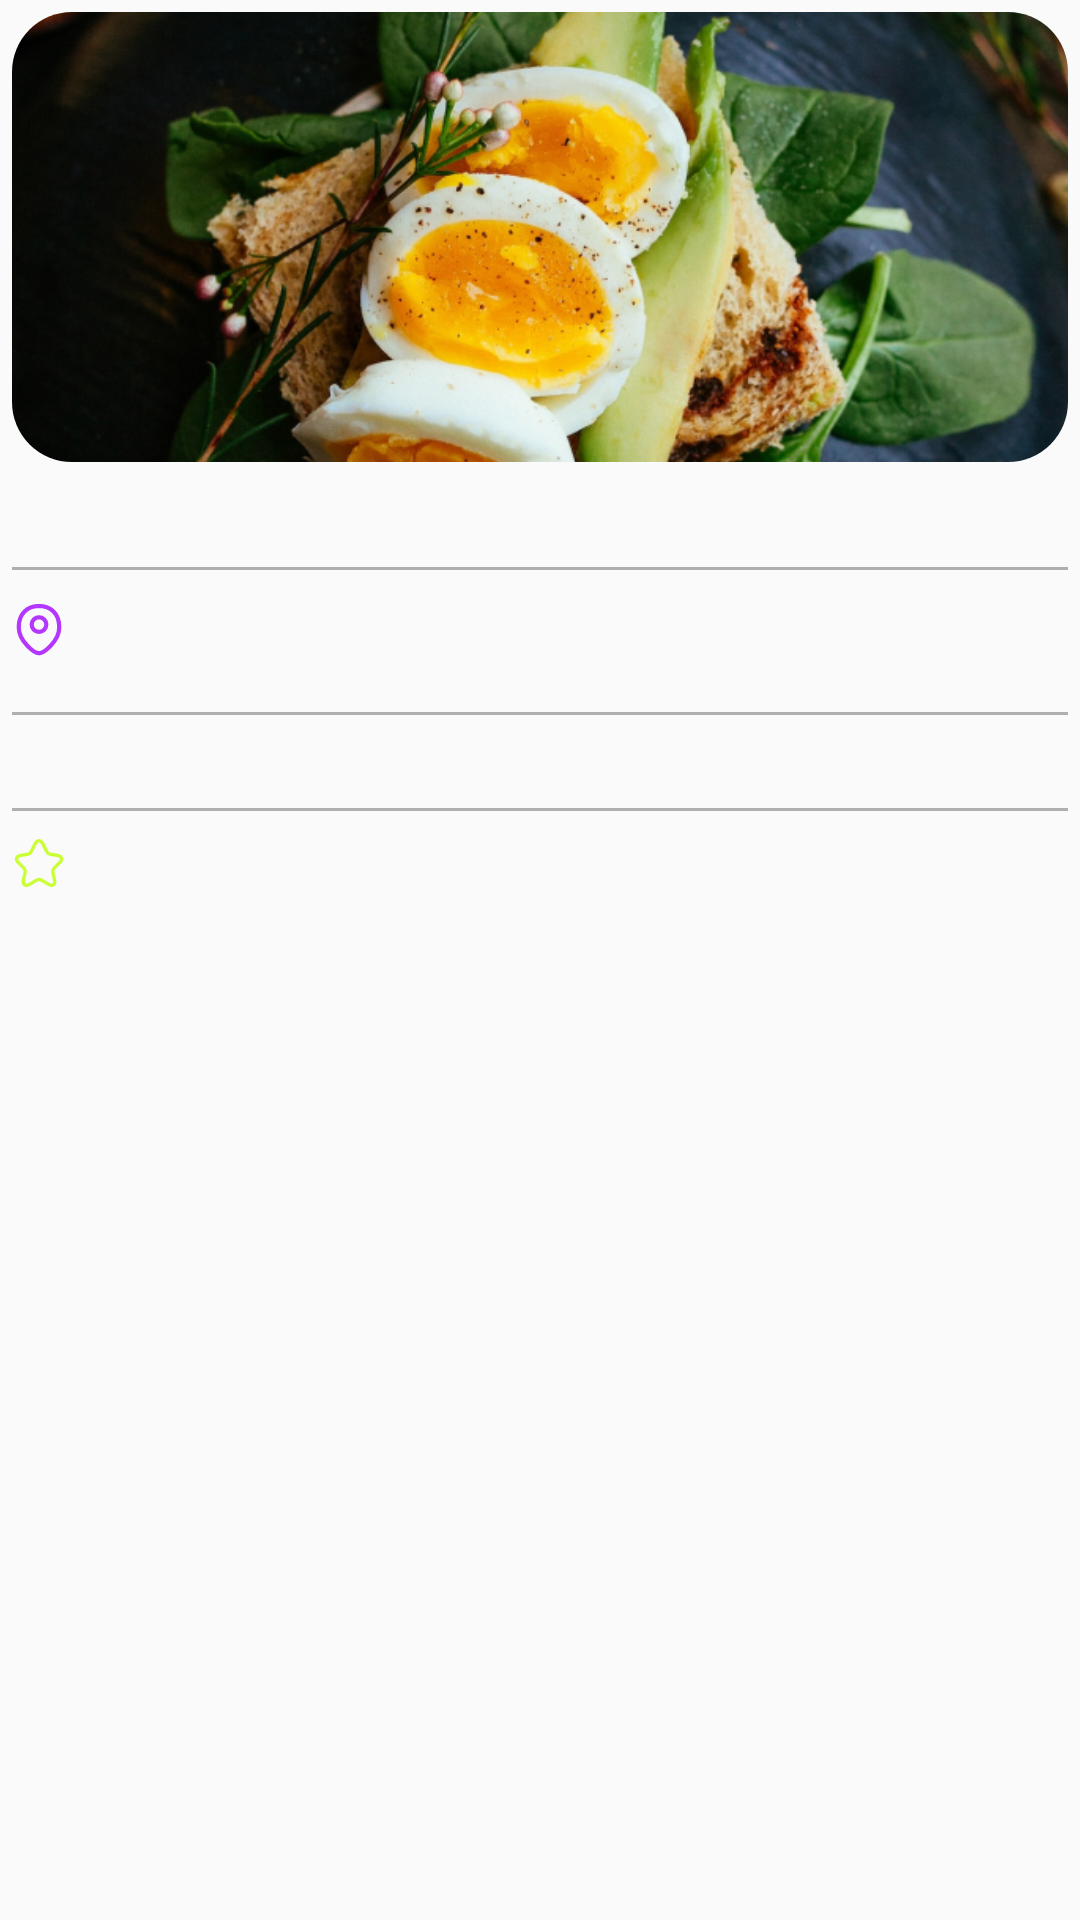

Screen size 1080 × 1920. Icon name, then its box in pixels as (x1, y1, x2, y2):
location: (16, 604, 62, 656)
star: (14, 839, 64, 887)
